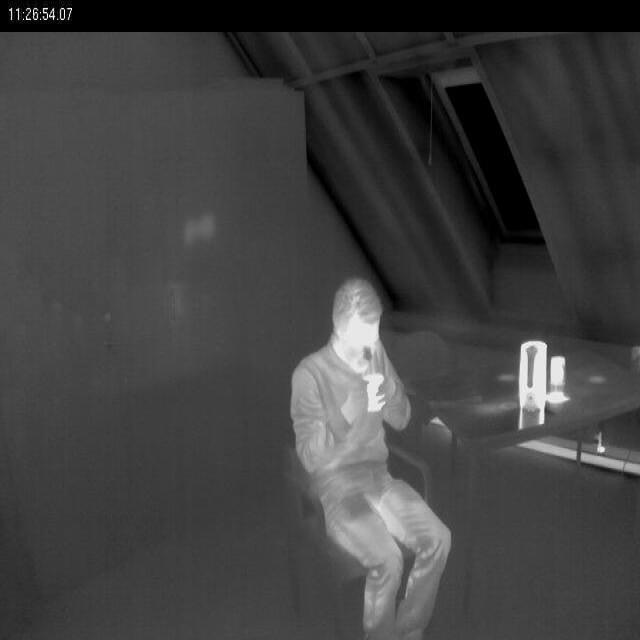person: (290, 281, 460, 637)
